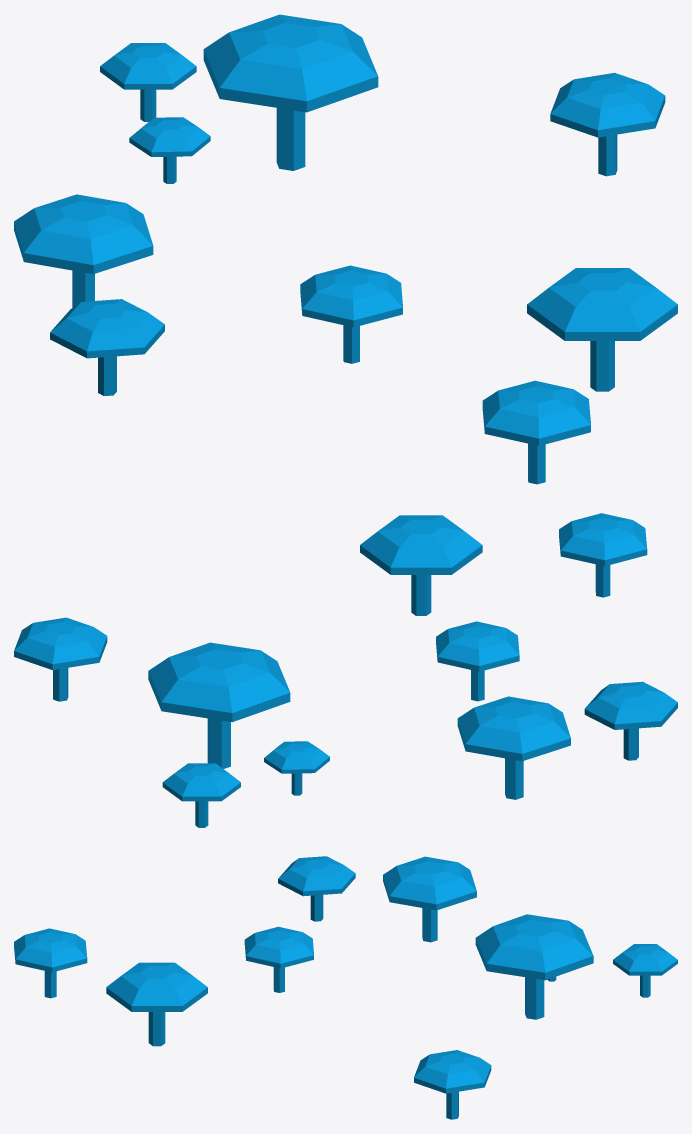
Rendered from Garden_GlowShroom02.fbx.
3 views of the same model, one above another, from view 1: azimuth 30°, elevation 25°; view 2: azimuth 150°, elevation 25°; view 3: azimuth 270°, elevation 25° (orthographic). The views are drawn at different scales.
Visible parts, largest first — view 1: Cylinder.166; view 2: Cylinder.166; view 3: Cylinder.166.
Part boxes in pixels (bbox=[...]): Cylinder.166: bbox=[14, 14, 677, 484]; Cylinder.166: bbox=[14, 513, 677, 827]; Cylinder.166: bbox=[14, 856, 677, 1119].
Size of the model in its own units: 55.05 by 11.61 by 66.97.
